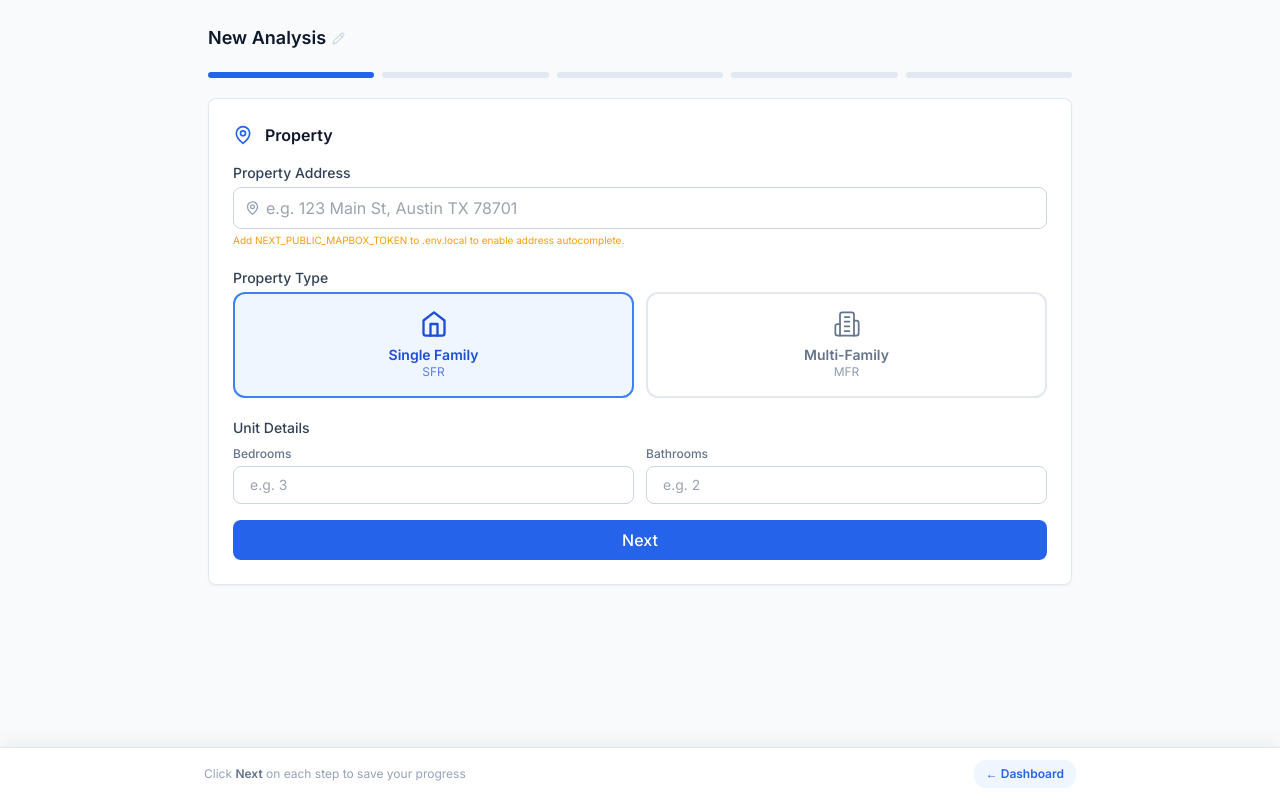
Scenario: DealAnalyzerForm step 0 — address required › Next is blocked when address is empty — shows error and stays on step 0
The width and height of the screenshot is (1280, 800).
Step 1. Click the button with test id "header-next-btn" → (640, 540), box [233,520,1047,560]
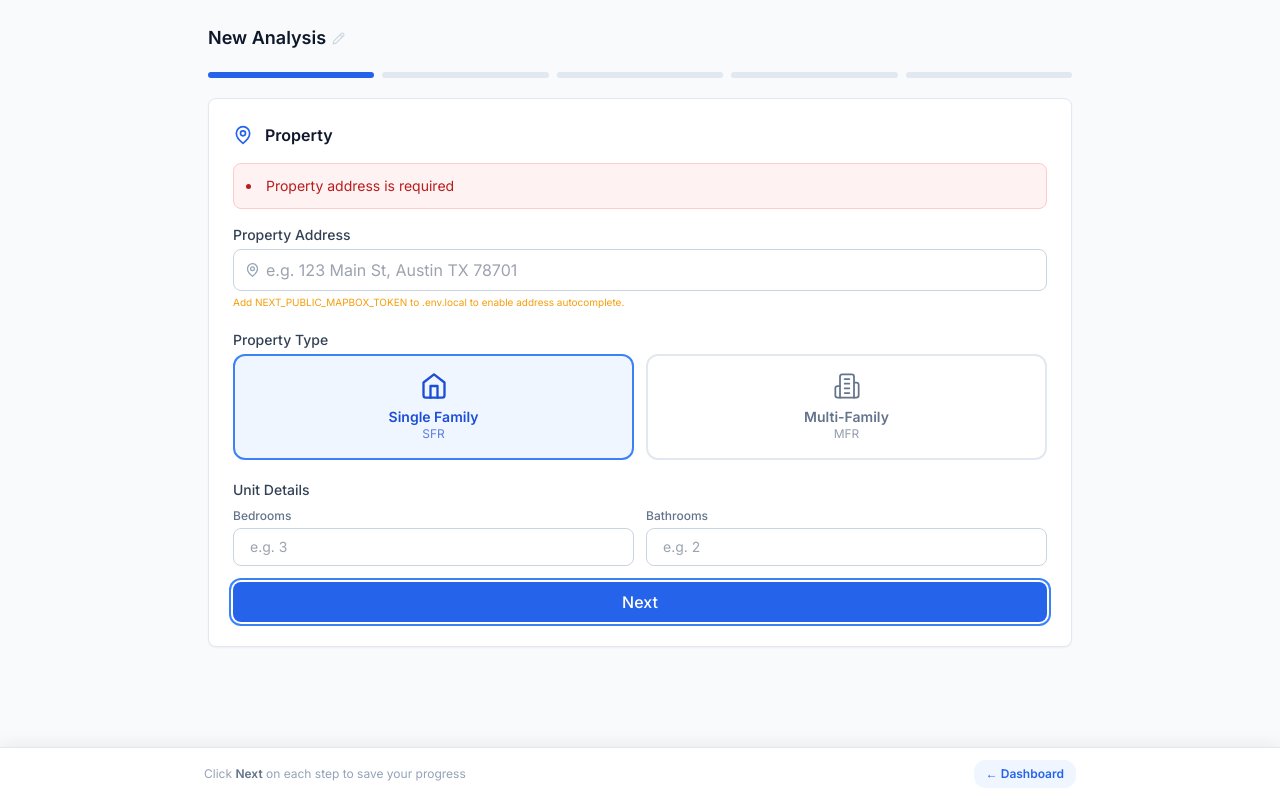
Check: the button with test id "header-next-btn" is shown, box [233,582,1047,622]
Check: the list item "Property address is required" is shown, box [266,177,454,194]
